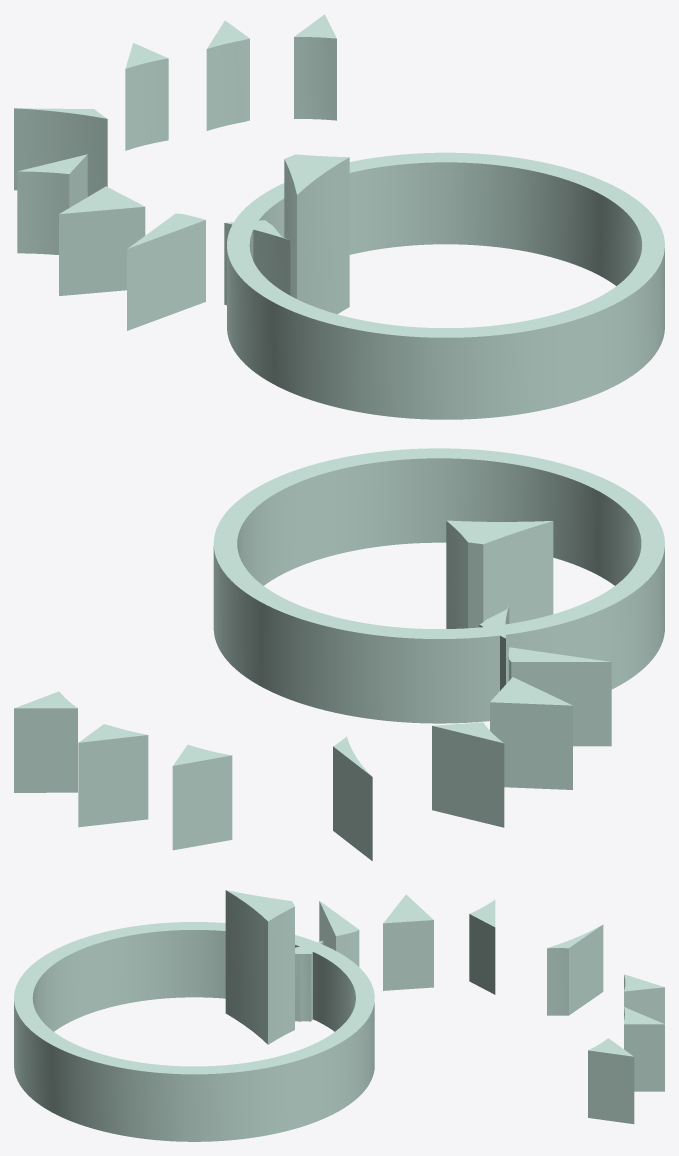
The picture shows the model from 3 angles, top to bottom: view 1: azimuth 30°, elevation 25°; view 2: azimuth 150°, elevation 25°; view 3: azimuth 270°, elevation 25°; orthographic projection. The views are drawn at different scales.
Parts seen in each view (by area): view 1: Renderer Node; view 2: Renderer Node; view 3: Renderer Node.
Boxes of the visible parts, <box> form: Renderer Node: <box>14,14,664,419</box>; Renderer Node: <box>14,448,664,860</box>; Renderer Node: <box>14,890,664,1141</box>.
Size of the model in its own units: 1.3 by 0.4141 by 1.98.
